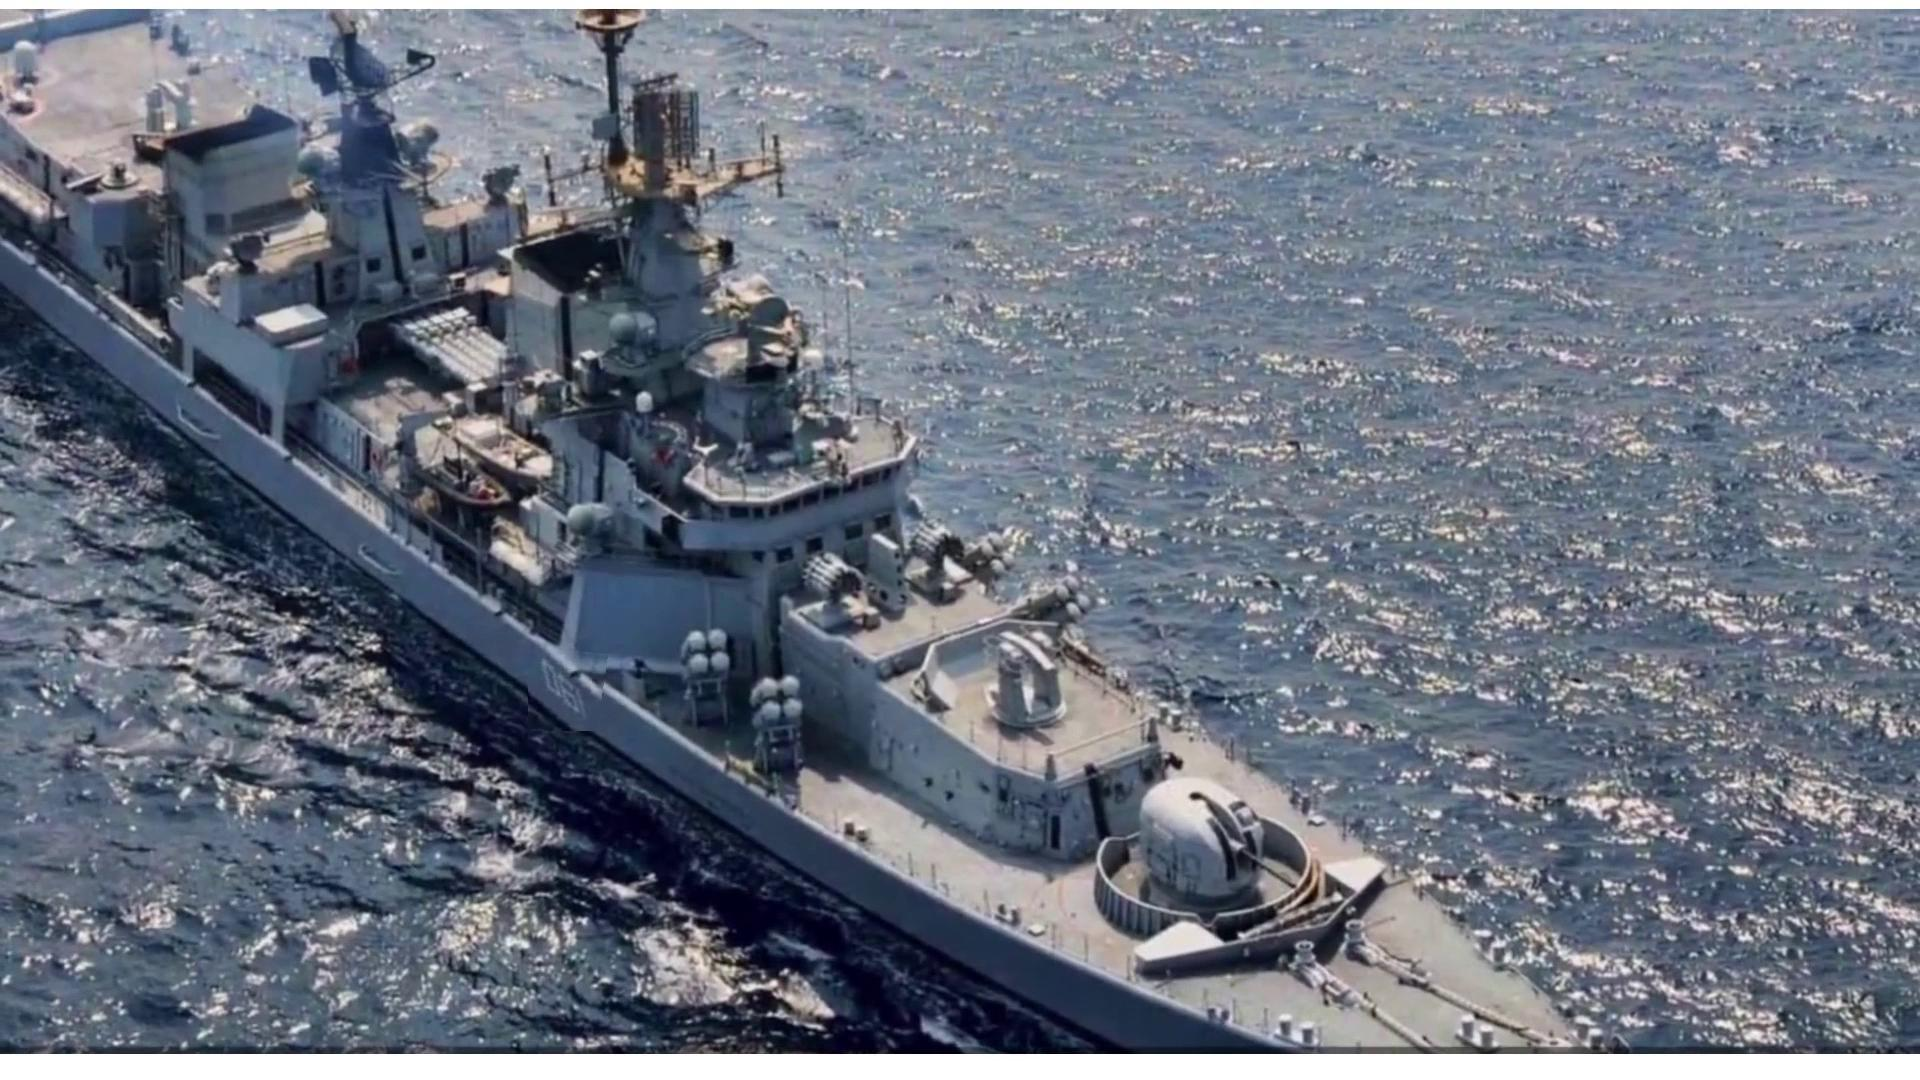OCR: (529, 650, 608, 731)
